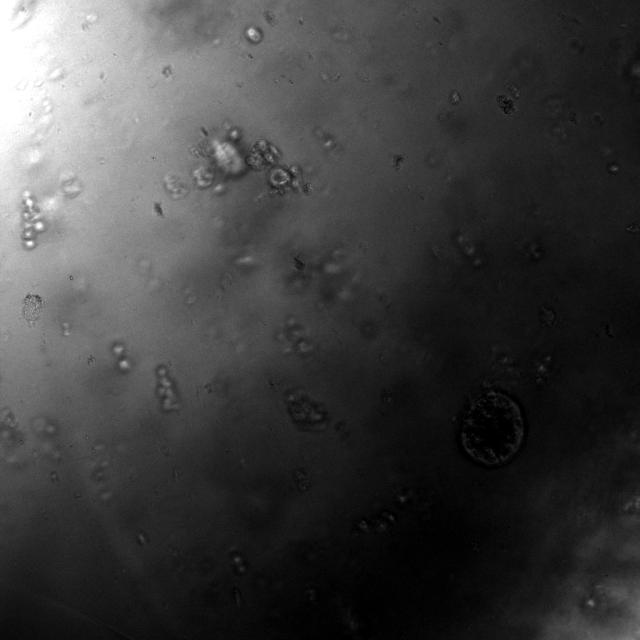organoid: (457, 351, 554, 468), (163, 125, 248, 199), (245, 138, 313, 194), (284, 390, 328, 431), (21, 192, 45, 249), (156, 364, 179, 412), (111, 341, 131, 372), (496, 95, 516, 114), (244, 25, 263, 44)
